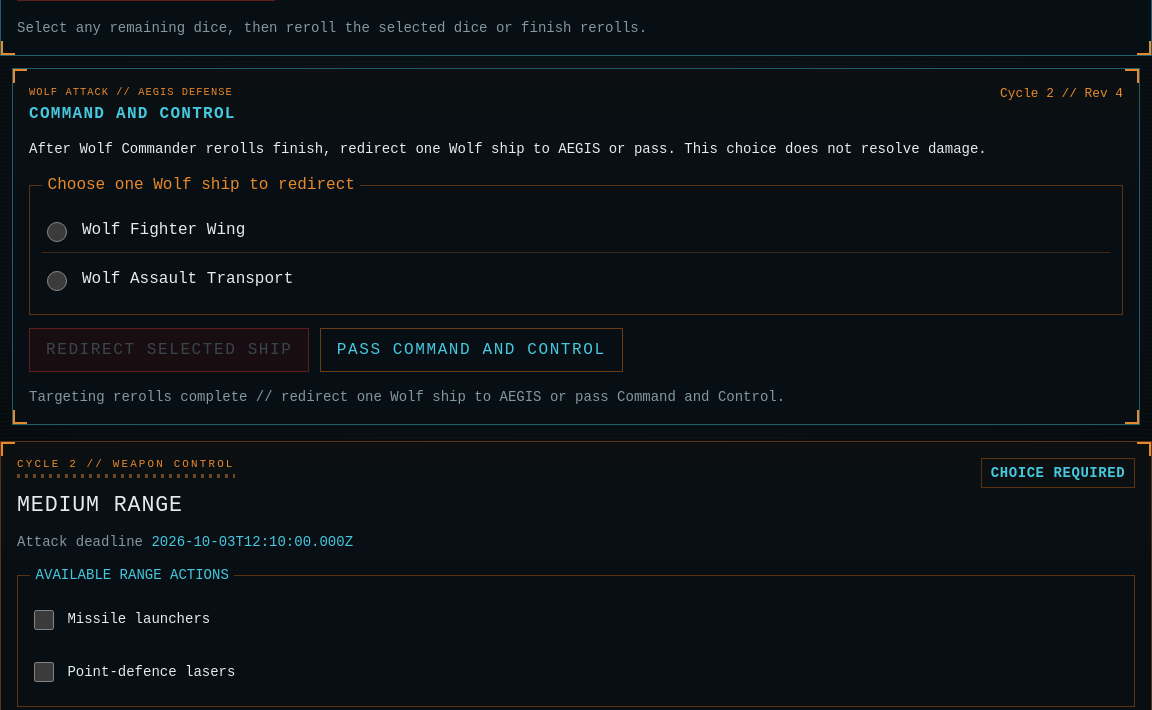
Test case: uses the actual optional C&C presenter with an explicit prepared pass
The image size is (1152, 710).
(page scrolled)
Click the button "Pass Command and Control" at [471, 350], box x1=320 y1=328 x2=623 y2=372
(page scrolled)
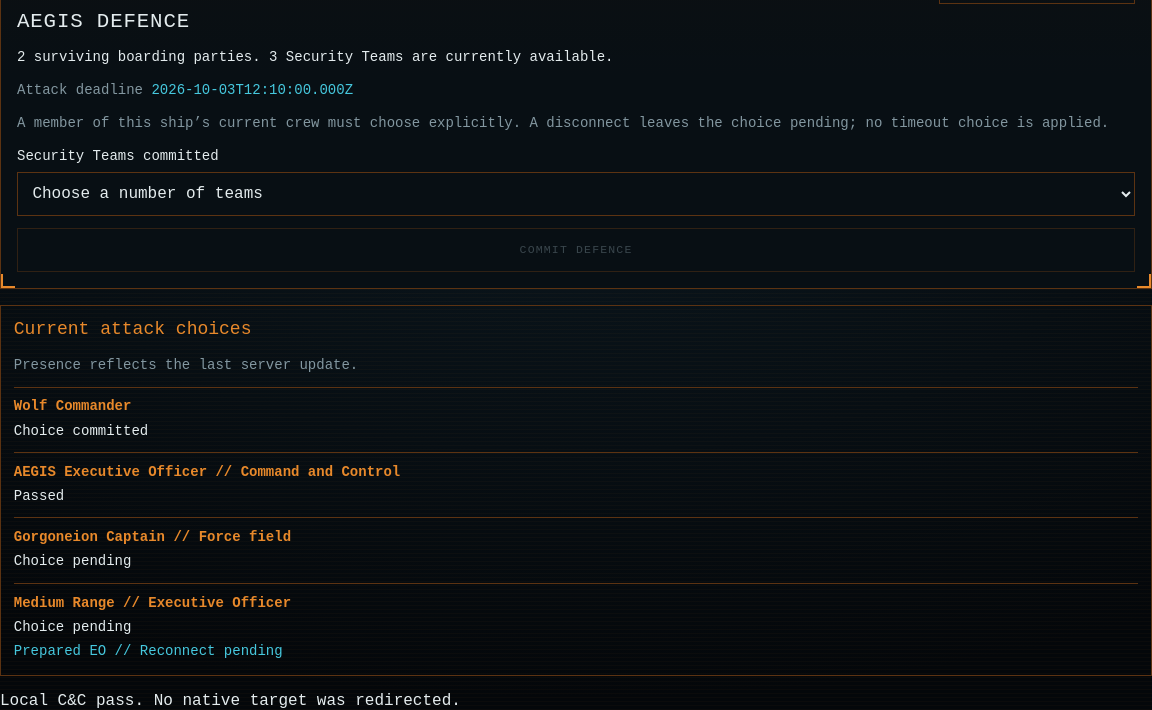
Now the message named "Prepared choice callback result" shows "Local C&C pass", box x1=0 y1=692 x2=461 y2=709
